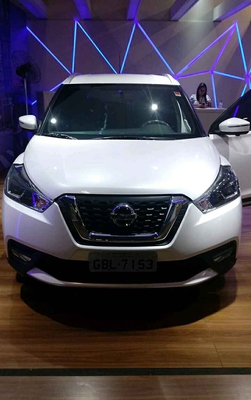Frontal Veiculo: (2, 79, 244, 291)
